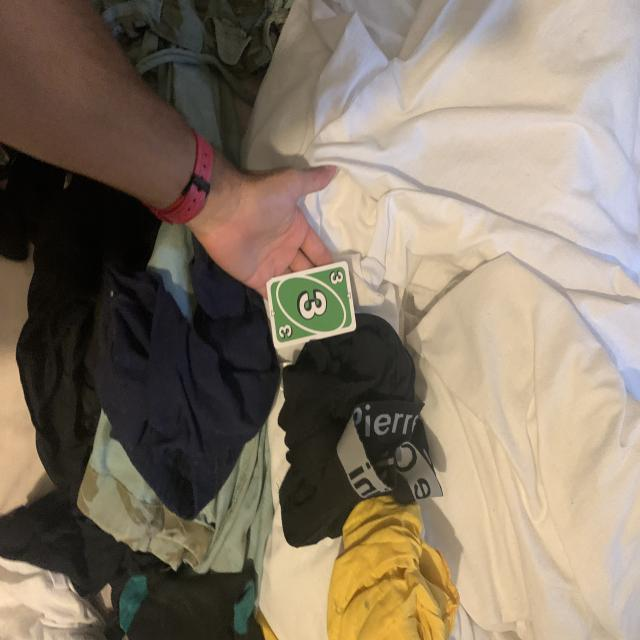lgreen-3: (326, 268, 346, 288)
